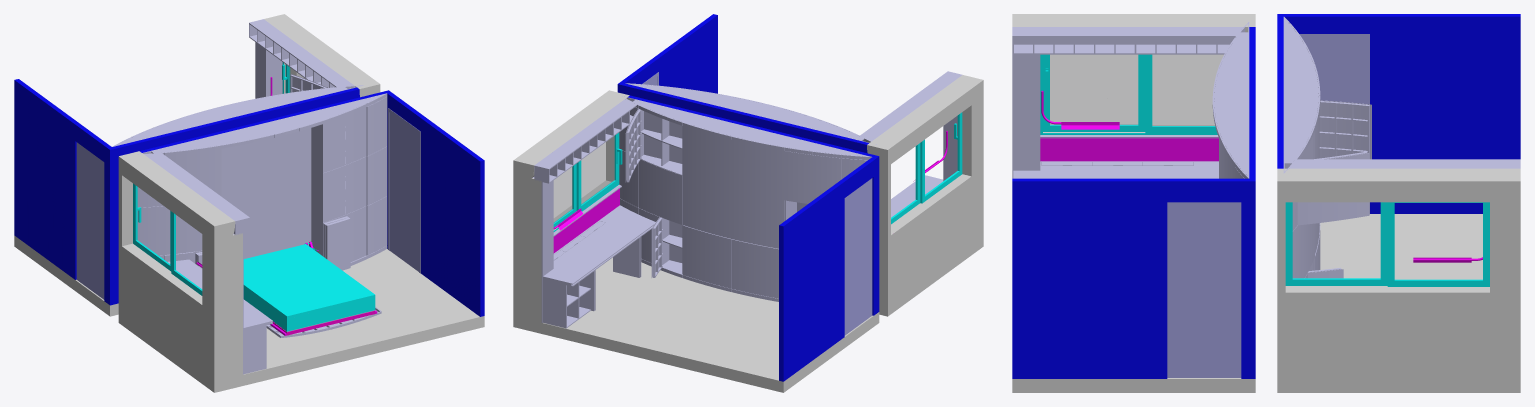
File: 3D_projet.glb
3 views of the same model, side by side, from view 1: azimuth 30°, elevation 25°; view 2: azimuth 150°, elevation 25°; view 3: azimuth 270°, elevation 25° (orthographic). The views are drawn at different scales.
Visible parts, largest first — view 1: object 46, object 552, object 967, object 548, object 547, object 574, object 550, object 48, object 544, object 44, object 50, object 553 (+22 smaller); view 2: object 481, object 552, object 46, object 548, object 410, object 409, object 50, object 48, object 81, object 407, object 44, object 544 (+25 smaller); view 3: object 548, object 50, object 46, object 550, object 481, object 959, object 963, object 642, object 44, object 544, object 967, object 552 (+18 smaller).
Boxes of the visible parts, left/top/right/bottom form: object 46: left=14, top=79, right=359, bottom=305; object 552: left=118, top=151, right=235, bottom=381; object 967: left=118, top=249, right=484, bottom=392; object 548: left=139, top=90, right=484, bottom=316; object 547: left=137, top=94, right=383, bottom=258; object 574: left=243, top=244, right=375, bottom=318; object 550: left=390, top=112, right=418, bottom=271; object 48: left=76, top=142, right=104, bottom=299; object 544: left=151, top=94, right=383, bottom=153; object 44: left=115, top=87, right=347, bottom=145; object 50: left=264, top=14, right=380, bottom=97; object 553: left=227, top=233, right=242, bottom=378; object 481: left=513, top=257, right=879, bottom=392; object 552: left=867, top=75, right=983, bottom=305; object 46: left=628, top=95, right=879, bottom=381; object 548: left=617, top=14, right=868, bottom=153; object 410: left=731, top=140, right=784, bottom=248; object 409: left=683, top=126, right=731, bottom=238; object 50: left=513, top=90, right=629, bottom=318; object 48: left=844, top=178, right=872, bottom=335; object 81: left=543, top=205, right=655, bottom=284; object 407: left=784, top=151, right=841, bottom=203; object 44: left=633, top=99, right=868, bottom=156; object 544: left=629, top=84, right=864, bottom=140; object 548: left=1012, top=27, right=1255, bottom=378; object 50: left=1277, top=168, right=1520, bottom=378; object 46: left=1277, top=14, right=1520, bottom=213; object 550: left=1167, top=202, right=1241, bottom=377; object 481: left=1277, top=214, right=1520, bottom=392; object 959: left=1050, top=54, right=1138, bottom=125; object 963: left=1152, top=54, right=1223, bottom=126; object 642: left=1040, top=137, right=1218, bottom=161; object 44: left=1284, top=19, right=1318, bottom=164; object 544: left=1214, top=32, right=1248, bottom=176; object 967: left=1012, top=378, right=1255, bottom=392; object 552: left=1012, top=14, right=1255, bottom=132.
Bounding box in the file's own units: 0.0783 × 0.0461 × 0.1004.
